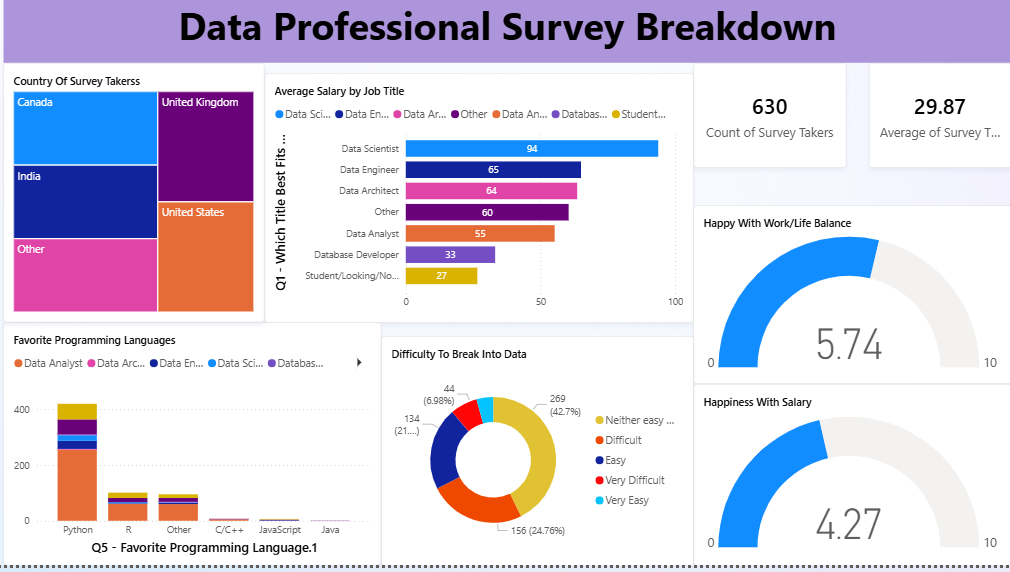

Layout of this report page (visuals, bound fields, positions):
{"tool":"powerbi","page":{"name":"Page 1","canvas":[1280,720],"ordinal":0},"visuals":[{"type":"textbox","box":[9.4,0,1269.9,86.9],"z":0},{"type":"card","fields":{"Values":["Count(Data Professional Survey.Unique ID)"]},"box":[878.7,86.9,192.8,132.3],"z":1000},{"type":"card","fields":{"Values":["Avg(Data Professional Survey.Q10 - Current Age)"]},"box":[1099.9,86.9,179.5,132.3],"z":2000},{"type":"barChart","title":"Average Salary by Job Title","fields":{"Category":["Data Professional Survey.Q1 - Which Title Best Fits your Current Role?.1.1"],"Y":["Avg(Data Professional Survey.Averange Salary)"],"Series":["Data Professional Survey.Q1 - Which Title Best Fits your Current Role?.1.1"]},"box":[338.3,100.2,540.5,313.7],"z":3000},{"type":"columnChart","title":"Favorite Programming Languages","fields":{"Category":["Data Professional Survey.Q5 - Favorite Programming Language.1"],"Y":["CountNonNull(Data Professional Survey.Unique ID)"],"Series":["Data Professional Survey.Q1 - Which Title Best Fits your Current Role?.1.1"]},"box":[9.4,413.9,476.2,306.1],"z":4000},{"type":"treemap","title":"Country Of Survey Takerss","fields":{"Group":["Data Professional Survey.Q11 - Which Country do you live in?.1"],"Values":["Count(Data Professional Survey.Q11 - Which Country do you live in?.1)"]},"box":[9.4,86.9,328.8,326.9],"z":5000},{"type":"gauge","title":"Happy With Work/Life Balance","fields":{"Y":["Avg(Data Professional Survey.Q6 - How Happy are you in your Current Position with the following? (Work/Life Balance))"],"MinValue":["Min(Data Professional Survey.Q6 - How Happy are you in your Current Position with the following? (Work/Life Balance))1"],"MaxValue":["Max(Data Professional Survey.Q6 - How Happy are you in your Current Position with the following? (Work/Life Balance))2"]},"box":[878.7,266.5,400.6,224.9],"z":6000},{"type":"gauge","title":"Happiness With Salary","fields":{"Y":["Avg(Data Professional Survey.Q6 - How Happy are you in your Current Position with the following? (Salary))"],"MaxValue":["Max(Data Professional Survey.Q6 - How Happy are you in your Current Position with the following? (Salary))"],"MinValue":["Min(Data Professional Survey.Q6 - How Happy are you in your Current Position with the following? (Salary))1"]},"box":[878.7,491.3,400.6,228.7],"z":7000},{"type":"donutChart","title":"Difficulty To Break Into Data","fields":{"Category":["Data Professional Survey.Q7 - How difficult was it for you to break into Data?"],"Y":["CountNonNull(Data Professional Survey.Q7 - How difficult was it for you to break into Data?)"]},"box":[485.7,430.9,393.1,289.1],"z":8000}]}

Visuals, with their boxes in screenshot pixels (x1, y1, x2, y2), scaled from the page's 1280x720 canvas onto the 1010x572 screenshot:
textbox: box(7, 0, 1009, 69)
card - Count(Data Professional Survey.Unique ID): box(693, 69, 845, 174)
card - Avg(Data Professional Survey.Q10 - Current Age): box(868, 69, 1009, 174)
"Average Salary by Job Title" barChart: box(267, 80, 693, 329)
"Favorite Programming Languages" columnChart: box(7, 329, 383, 571)
"Country Of Survey Takerss" treemap: box(7, 69, 267, 329)
"Happy With Work/Life Balance" gauge: box(693, 212, 1009, 390)
"Happiness With Salary" gauge: box(693, 390, 1009, 571)
"Difficulty To Break Into Data" donutChart: box(383, 342, 693, 571)
